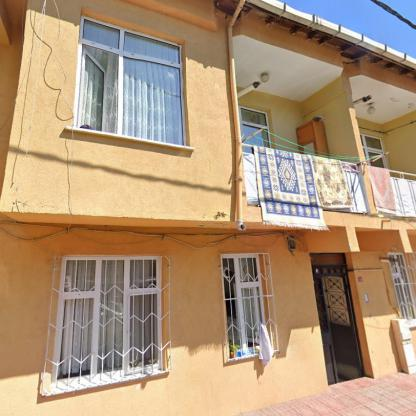door: (316, 277, 363, 383)
window: (74, 16, 186, 145), (55, 257, 158, 381), (223, 256, 264, 353), (388, 254, 416, 322), (240, 106, 268, 146), (361, 133, 384, 166), (312, 254, 345, 264), (315, 266, 345, 274)
